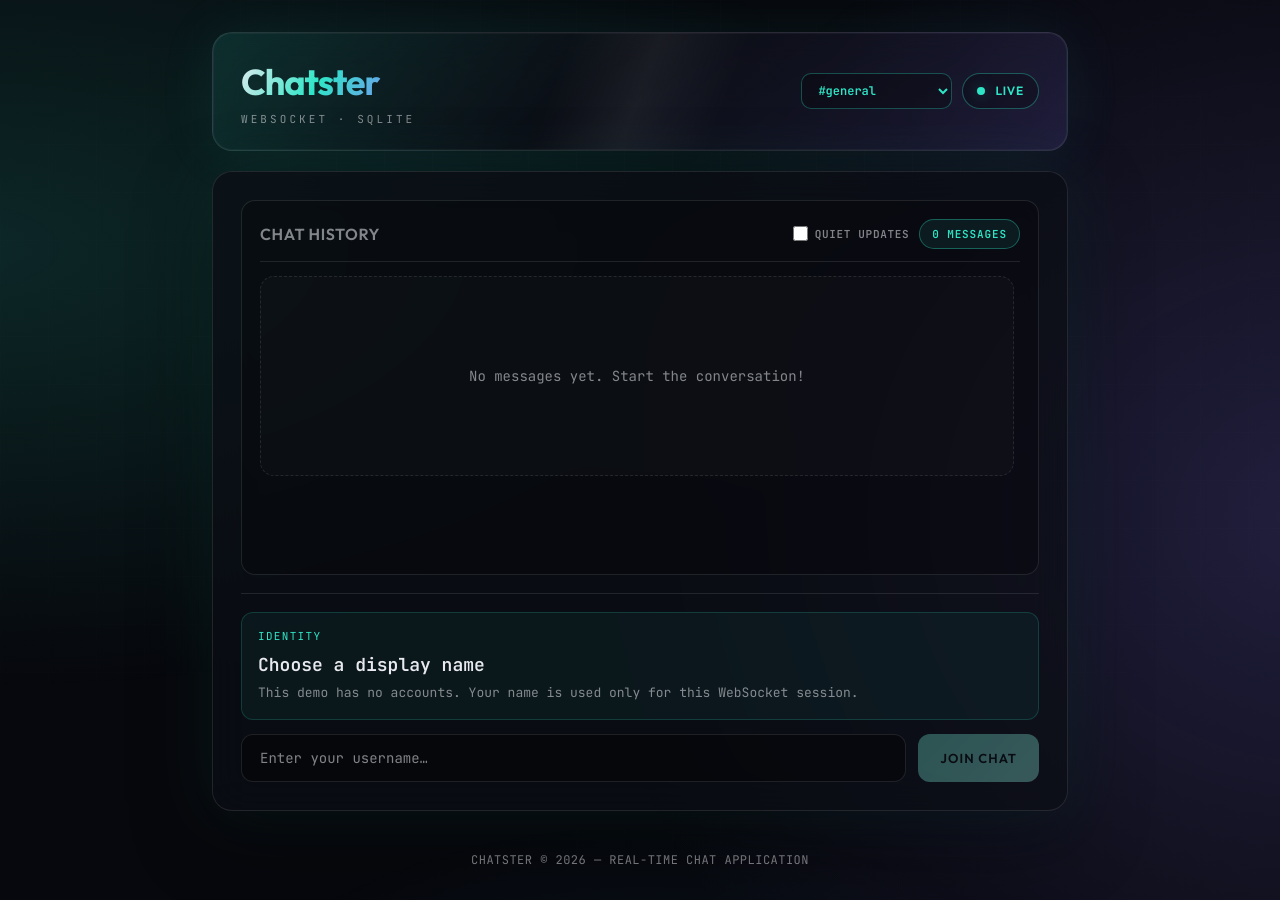
it: App › sends username handshake after joining
The image size is (1280, 900).
In the field with placeholder "Enter your username…": (574, 758) [241,734,906,782], type "alice"
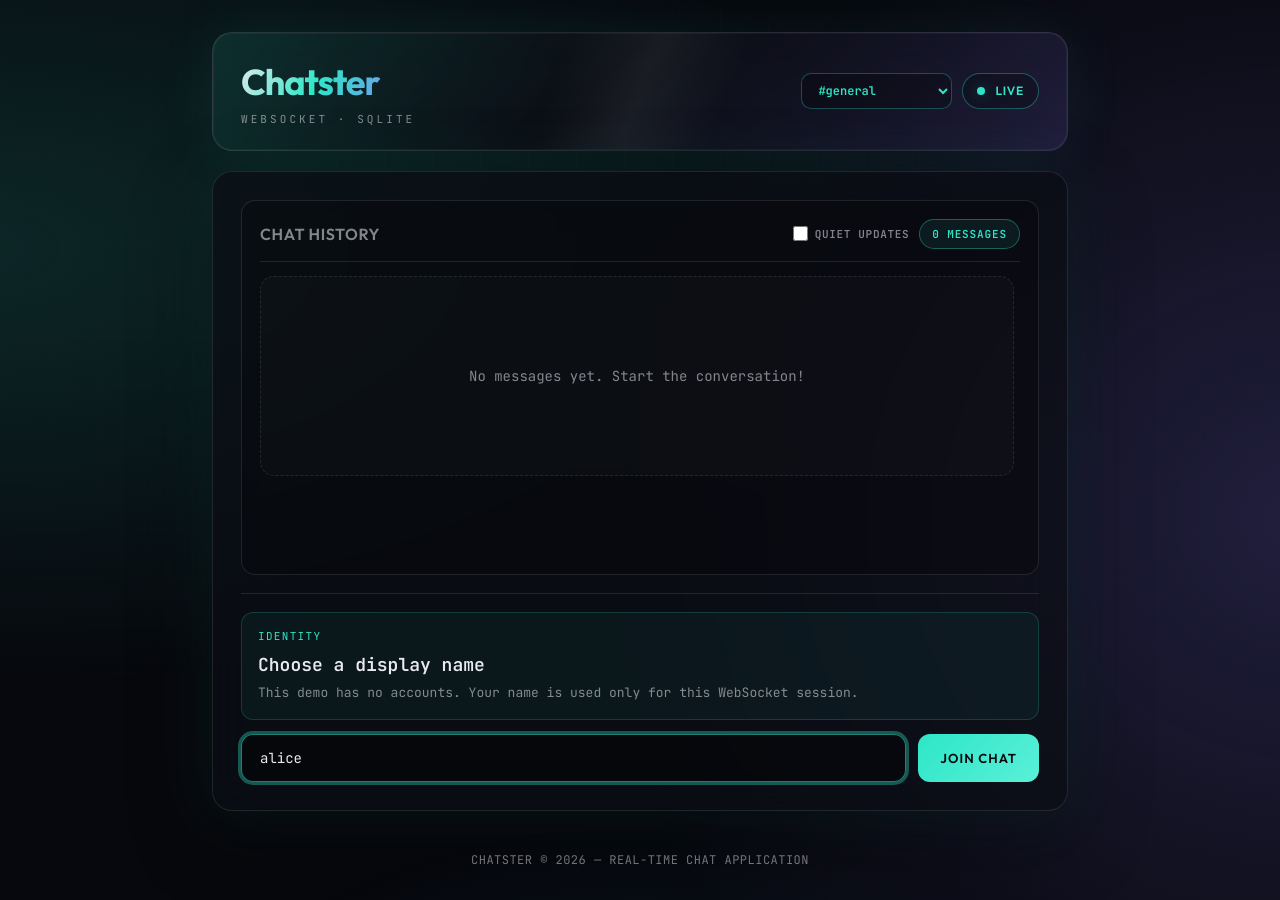
Click the button "Join chat": (979, 758) [918,734,1039,782]
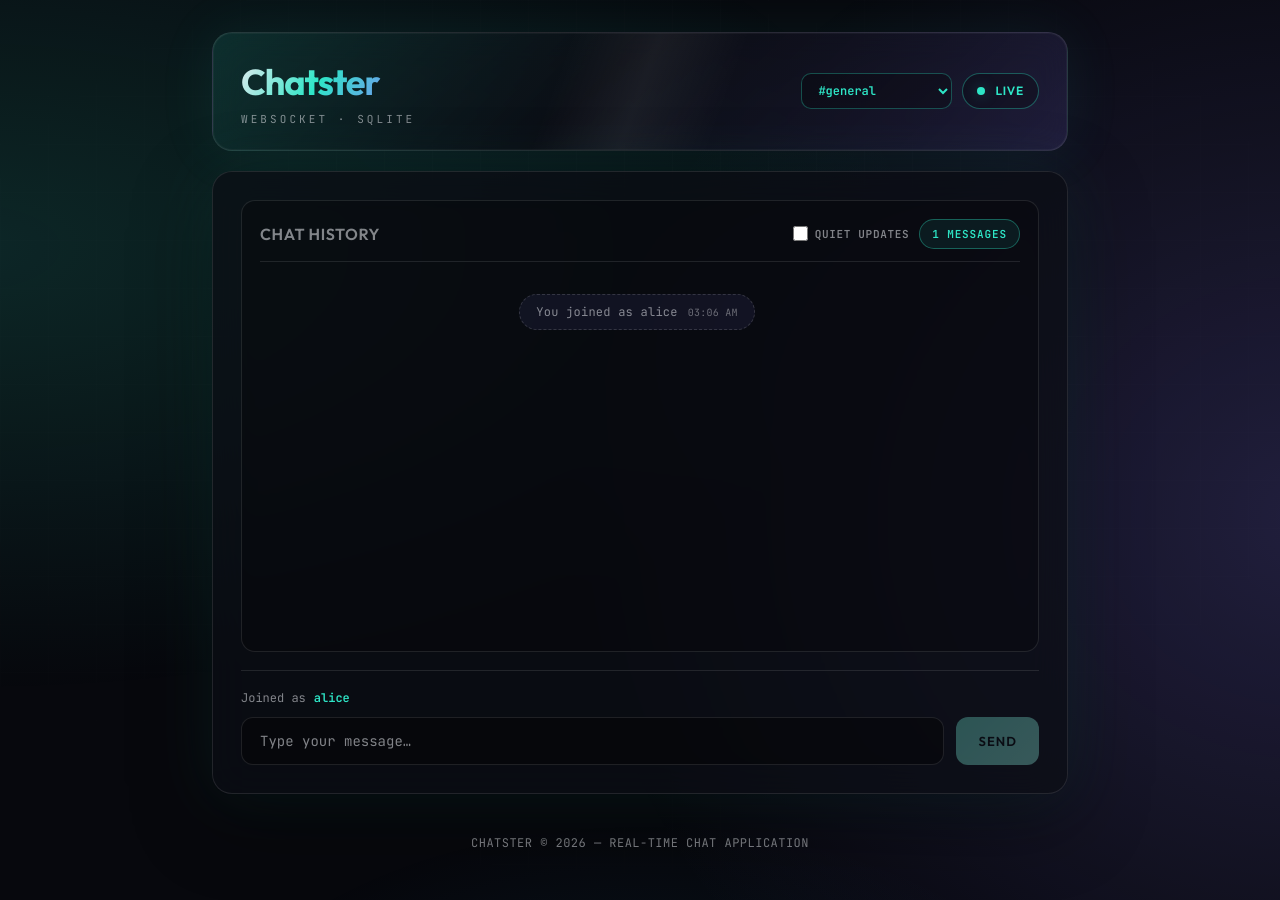
Expected: the text "You joined as alice" is shown, [536,303,678,321]
Expected: the text "alice" is shown, [314,689,350,707]
